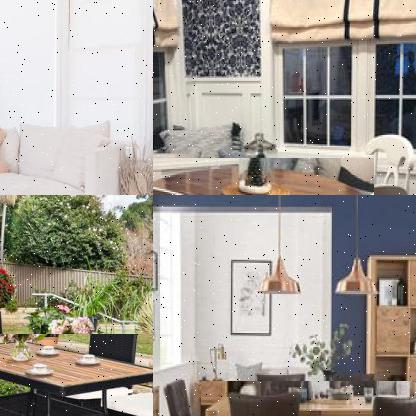table: (0, 334, 152, 415), (201, 380, 415, 415)
